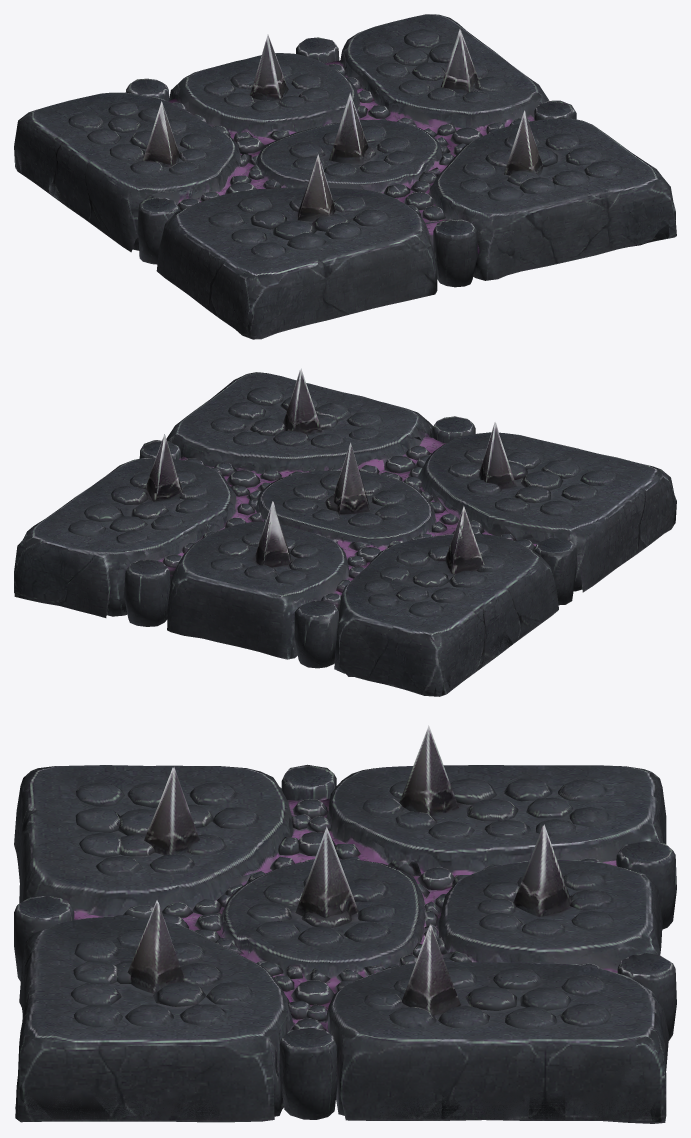
Rendered from spike_armed.glb.
3 views of the same model, one above another, from view 1: azimuth 30°, elevation 25°; view 2: azimuth 150°, elevation 25°; view 3: azimuth 270°, elevation 25° (orthographic). The views are drawn at different scales.
Size of the model in its own units: 1 by 0.2588 by 0.9863.
Materials: 1 (1 with a texture image).
